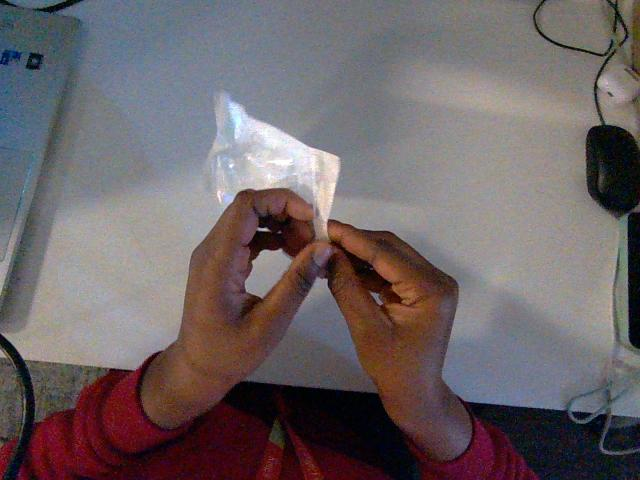gallipot: (208, 92, 339, 239)
